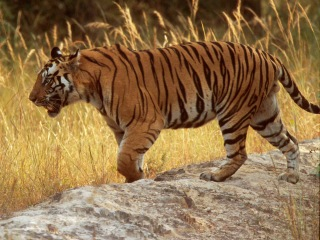Tigre: (36, 34, 307, 181)
